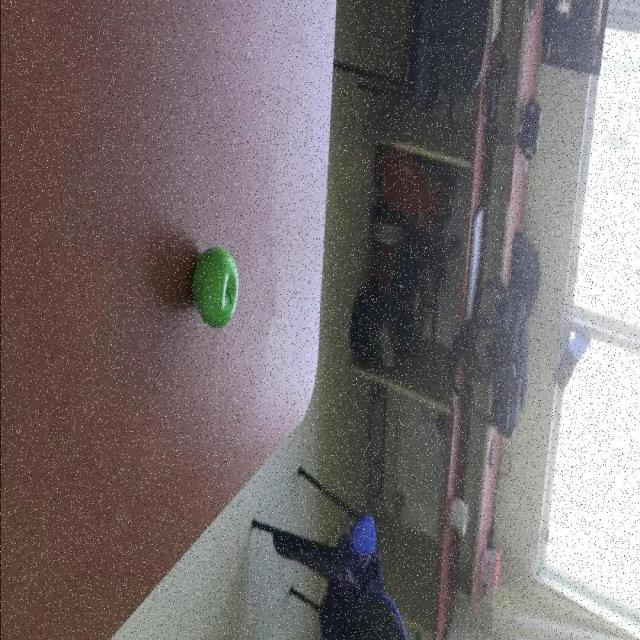Apple: (192, 248, 239, 330)
